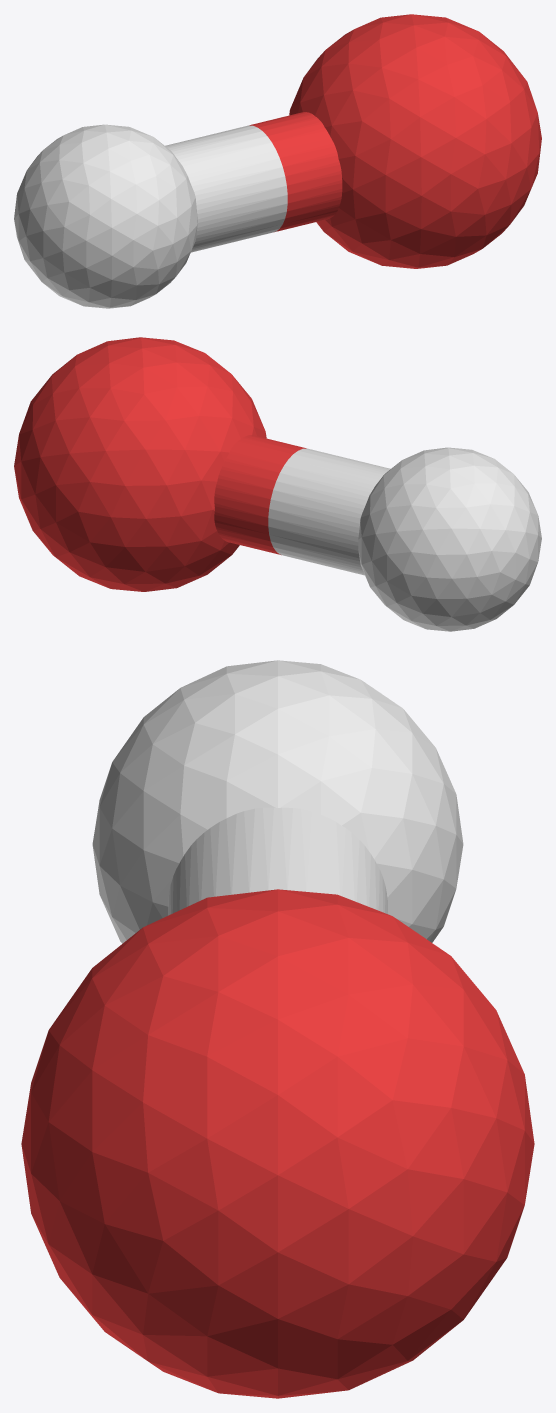
Rendered from hydroxide.fbx.
The picture shows the model from 3 angles, top to bottom: view 1: azimuth 30°, elevation 25°; view 2: azimuth 150°, elevation 25°; view 3: azimuth 270°, elevation 25°; orthographic projection. The views are drawn at different scales.
Parts seen in each view (by area): view 1: Shape_IndexedFaceSet, Shape_IndexedFaceSet.001, Shape_IndexedFaceSet.004, Shape_IndexedFaceSet.002; view 2: Shape_IndexedFaceSet, Shape_IndexedFaceSet.001, Shape_IndexedFaceSet.004, Shape_IndexedFaceSet.002; view 3: Shape_IndexedFaceSet, Shape_IndexedFaceSet.001, Shape_IndexedFaceSet.004.
Part boxes in pixels (x1,y1,x2,y2): Shape_IndexedFaceSet: (289, 14, 541, 268); Shape_IndexedFaceSet.001: (14, 124, 197, 308); Shape_IndexedFaceSet.004: (165, 125, 287, 252); Shape_IndexedFaceSet.002: (249, 112, 342, 232); Shape_IndexedFaceSet: (14, 337, 266, 591); Shape_IndexedFaceSet.001: (358, 447, 541, 631); Shape_IndexedFaceSet.004: (268, 448, 390, 575); Shape_IndexedFaceSet.002: (214, 435, 306, 555); Shape_IndexedFaceSet: (21, 889, 534, 1398); Shape_IndexedFaceSet.001: (92, 660, 463, 943); Shape_IndexedFaceSet.004: (168, 807, 387, 915).
Size of the model in its own units: 1570 by 700 by 700.
